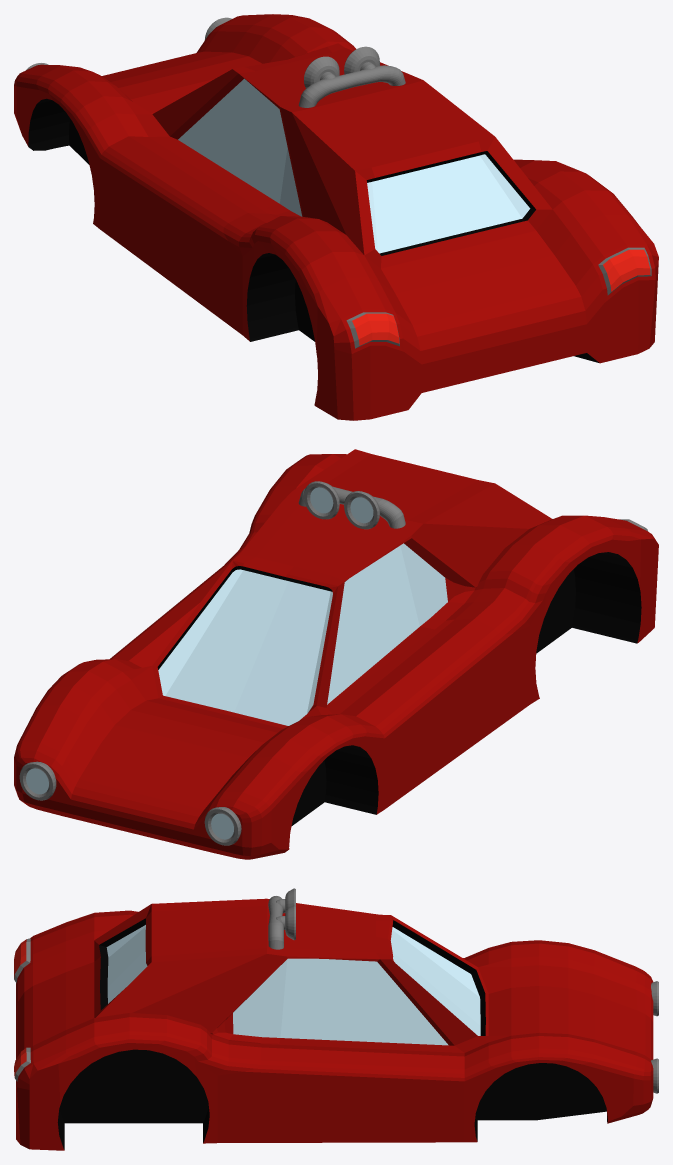
Rendered from Buggy.fbx.
3 views of the same model, one above another, from view 1: azimuth 30°, elevation 25°; view 2: azimuth 150°, elevation 25°; view 3: azimuth 270°, elevation 25° (orthographic). The views are drawn at different scales.
Visible parts, largest first — view 1: Buggy; view 2: Buggy; view 3: Buggy.
Boxes of the visible parts, <box> form: Buggy: <box>14,14,658,420</box>; Buggy: <box>14,449,658,859</box>; Buggy: <box>14,888,658,1150</box>.
Size of the model in its own units: 143 by 90.31 by 286.
